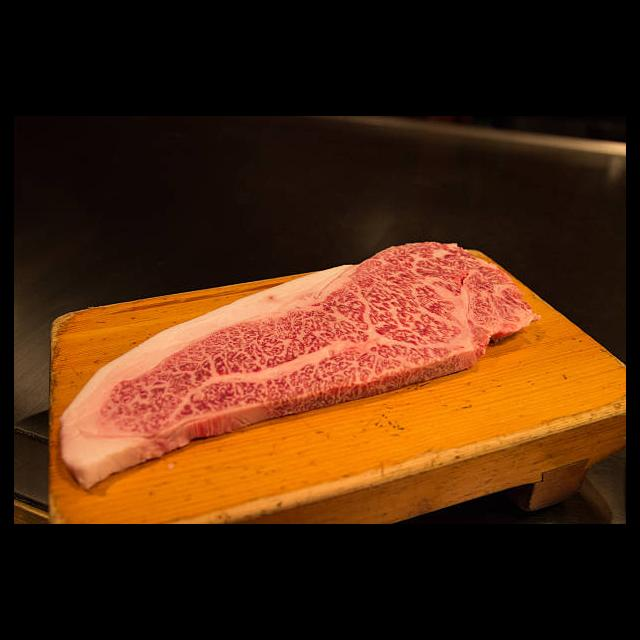beef: (55, 241, 539, 490)
